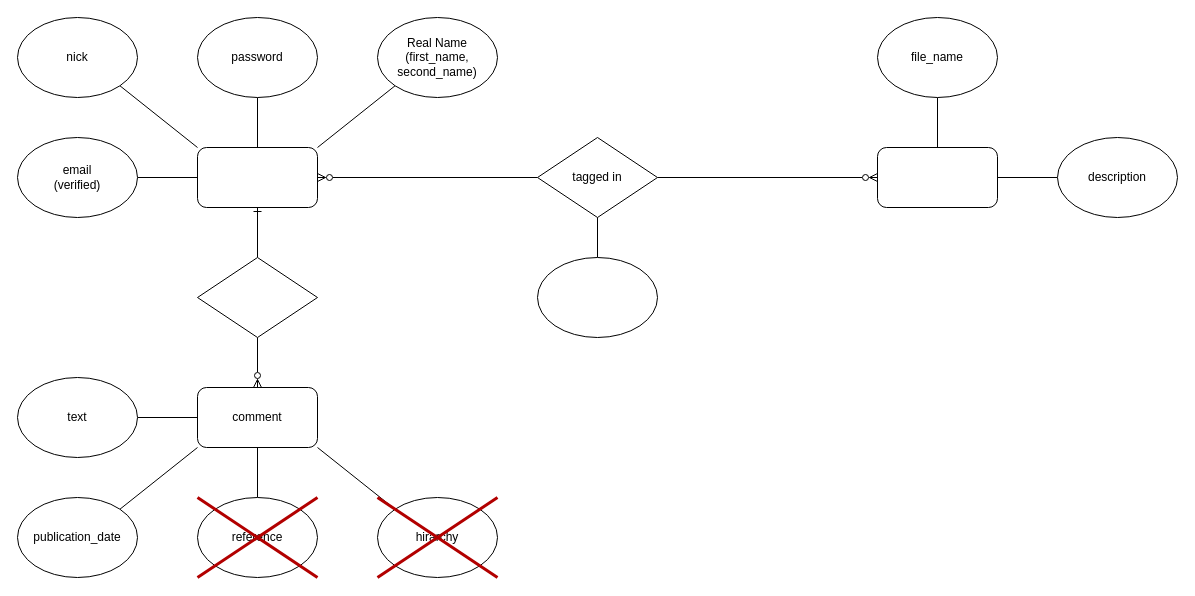
This 1195x596 diagram has some shape labels left out. The centre of each missing label's shape, as x and y in pixels:
"coordinates (x, y)" belongs at (x=597, y=297).
"creates" belongs at (x=257, y=297).
"picture" belongs at (x=937, y=177).
"user" belongs at (x=257, y=177).
